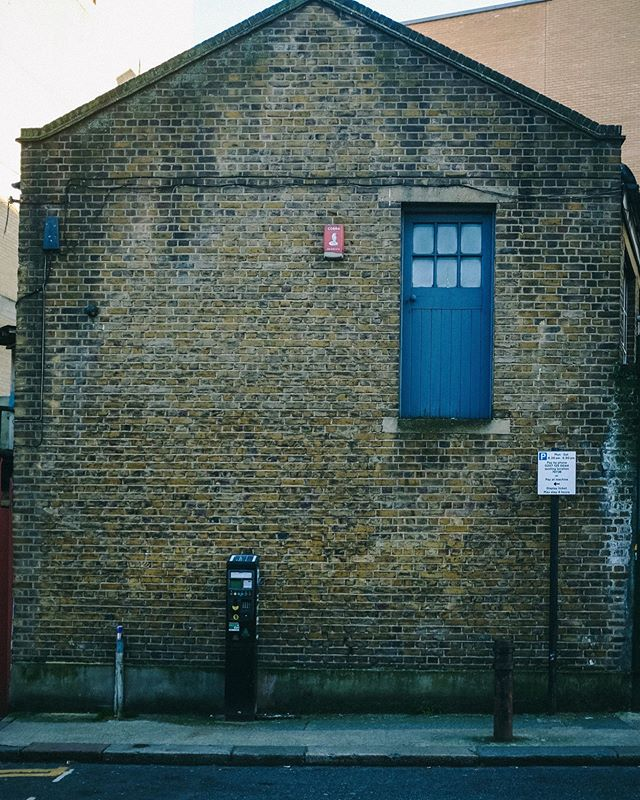building: (1, 1, 625, 718)
door: (400, 193, 496, 438)
